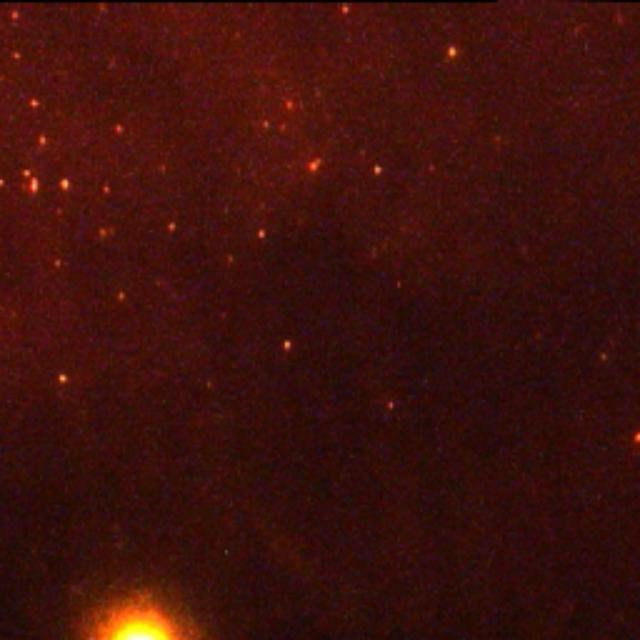microbeads: (90, 620, 174, 640)
